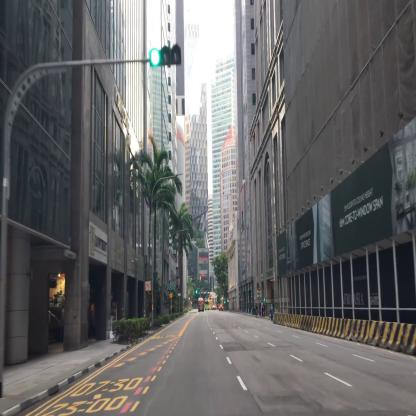green_traffic_light: (149, 48, 182, 63)
